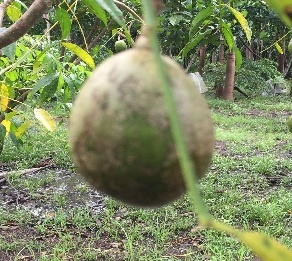Coc: (68, 49, 213, 207)
